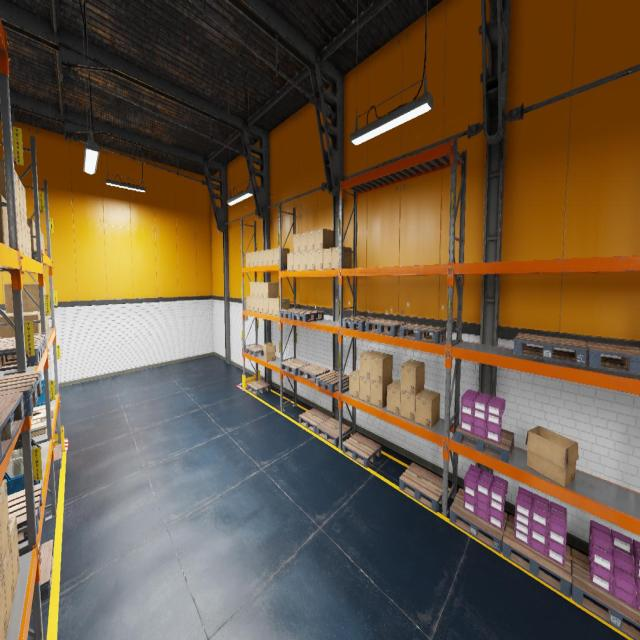box: (526, 426, 578, 487), (4, 284, 40, 313), (0, 313, 41, 338), (3, 539, 14, 630), (415, 389, 440, 428), (0, 158, 17, 213), (9, 515, 20, 596), (0, 479, 10, 565), (400, 360, 424, 394), (5, 311, 41, 333), (400, 389, 424, 421), (371, 352, 392, 383), (370, 379, 392, 408), (360, 350, 380, 380), (386, 380, 401, 415), (0, 568, 7, 639), (22, 283, 44, 305), (0, 194, 9, 246), (332, 246, 352, 268), (315, 228, 333, 250), (349, 368, 359, 398), (27, 218, 36, 251), (14, 170, 20, 217), (20, 418, 40, 432), (30, 421, 47, 437), (360, 377, 370, 403), (274, 298, 289, 315), (32, 409, 51, 422), (263, 342, 276, 361), (17, 214, 23, 254), (268, 298, 283, 314), (274, 248, 289, 264), (19, 177, 24, 222), (264, 282, 278, 298), (22, 184, 27, 225), (323, 248, 332, 269), (21, 218, 26, 255), (36, 407, 54, 417), (31, 406, 45, 418), (0, 523, 3, 579), (315, 249, 323, 270), (27, 225, 32, 258), (307, 250, 315, 270), (307, 230, 315, 250), (25, 222, 29, 257), (300, 232, 307, 251), (293, 233, 300, 252), (300, 251, 307, 270), (293, 252, 300, 270), (287, 252, 293, 271), (268, 248, 274, 265), (263, 250, 268, 266), (254, 297, 259, 312), (17, 214, 19, 246), (264, 298, 268, 314), (259, 282, 263, 298), (259, 250, 263, 266), (254, 282, 258, 297), (254, 251, 258, 266), (259, 298, 263, 312), (250, 297, 254, 311), (246, 296, 250, 310), (250, 282, 254, 296), (250, 252, 254, 266), (246, 252, 250, 266), (45, 310, 47, 332), (42, 232, 44, 252), (42, 234, 44, 254), (46, 316, 48, 332), (35, 222, 36, 250), (47, 315, 49, 329), (44, 283, 46, 294), (41, 231, 42, 249)
pallets: (571, 548, 640, 640), (502, 514, 572, 598), (449, 488, 508, 553), (513, 333, 588, 366), (399, 462, 448, 512), (455, 424, 514, 462), (8, 484, 42, 544), (0, 370, 42, 418), (586, 341, 640, 375), (0, 391, 24, 465), (342, 432, 381, 468), (0, 341, 43, 371), (0, 334, 46, 358), (316, 417, 351, 446), (399, 324, 446, 344), (40, 539, 54, 601), (299, 408, 330, 433), (366, 318, 409, 336), (315, 370, 349, 392), (298, 363, 330, 383), (342, 316, 380, 331), (280, 358, 310, 376), (292, 310, 324, 322), (247, 380, 270, 396), (278, 308, 307, 320), (245, 344, 264, 357), (54, 443, 62, 470)
